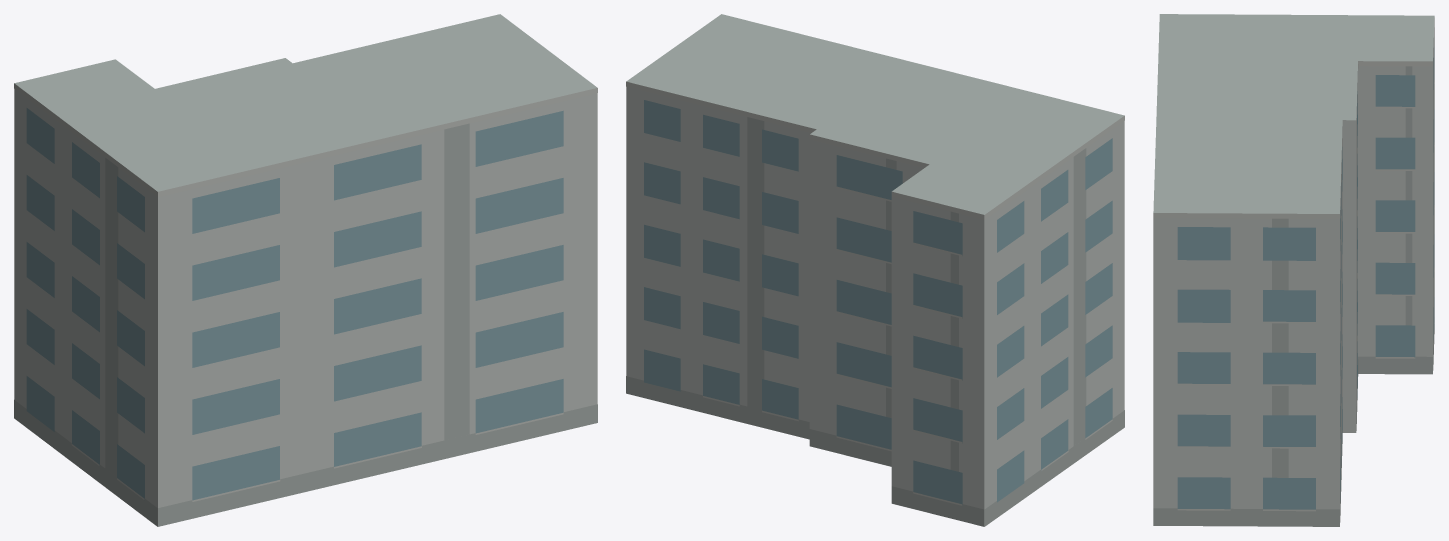
Rendered from survey-upis-32768046.glb.
3 renders of one model, left to right at view 1: azimuth 30°, elevation 25°; view 2: azimuth 150°, elevation 25°; view 3: azimuth 270°, elevation 25°, orthographic. The views are drawn at different scales.
Parts seen in each view (by area): view 1: survey-upis-32768046.tmp; view 2: survey-upis-32768046.tmp; view 3: survey-upis-32768046.tmp.
Boxes of the visible parts, left/top/right/bottom form: survey-upis-32768046.tmp: left=14, top=14, right=597, bottom=526; survey-upis-32768046.tmp: left=626, top=14, right=1124, bottom=526; survey-upis-32768046.tmp: left=1153, top=14, right=1434, bottom=526.
Size of the model in its own units: 20.92 by 15.25 by 12.43.
